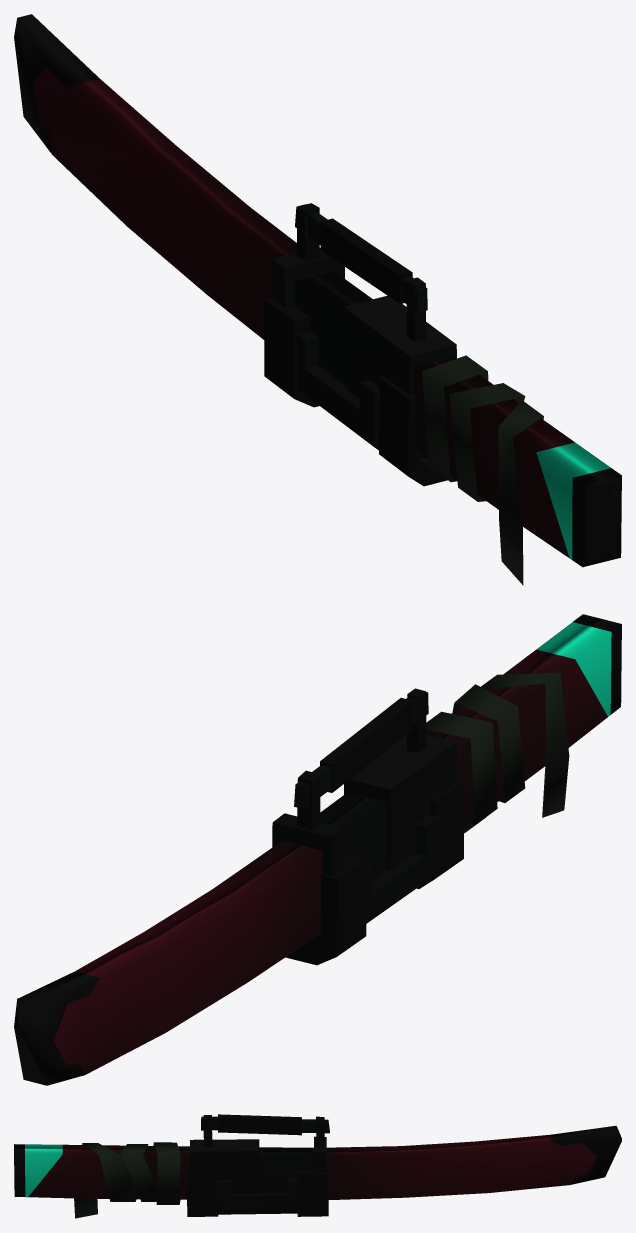
The model's file is CharIGnisHolster.fbx.
3 views of the same model, one above another, from view 1: azimuth 30°, elevation 25°; view 2: azimuth 150°, elevation 25°; view 3: azimuth 270°, elevation 25° (orthographic). The views are drawn at different scales.
Parts seen in each view (by area): view 1: cover; view 2: cover; view 3: cover.
Part boxes in pixels (left/top/right/bottom): cover: left=14, top=14, right=621, bottom=585; cover: left=14, top=614, right=621, bottom=1085; cover: left=14, top=1114, right=621, bottom=1218.
Size of the model in its own units: 0.1665 by 2.29 by 0.4485.
